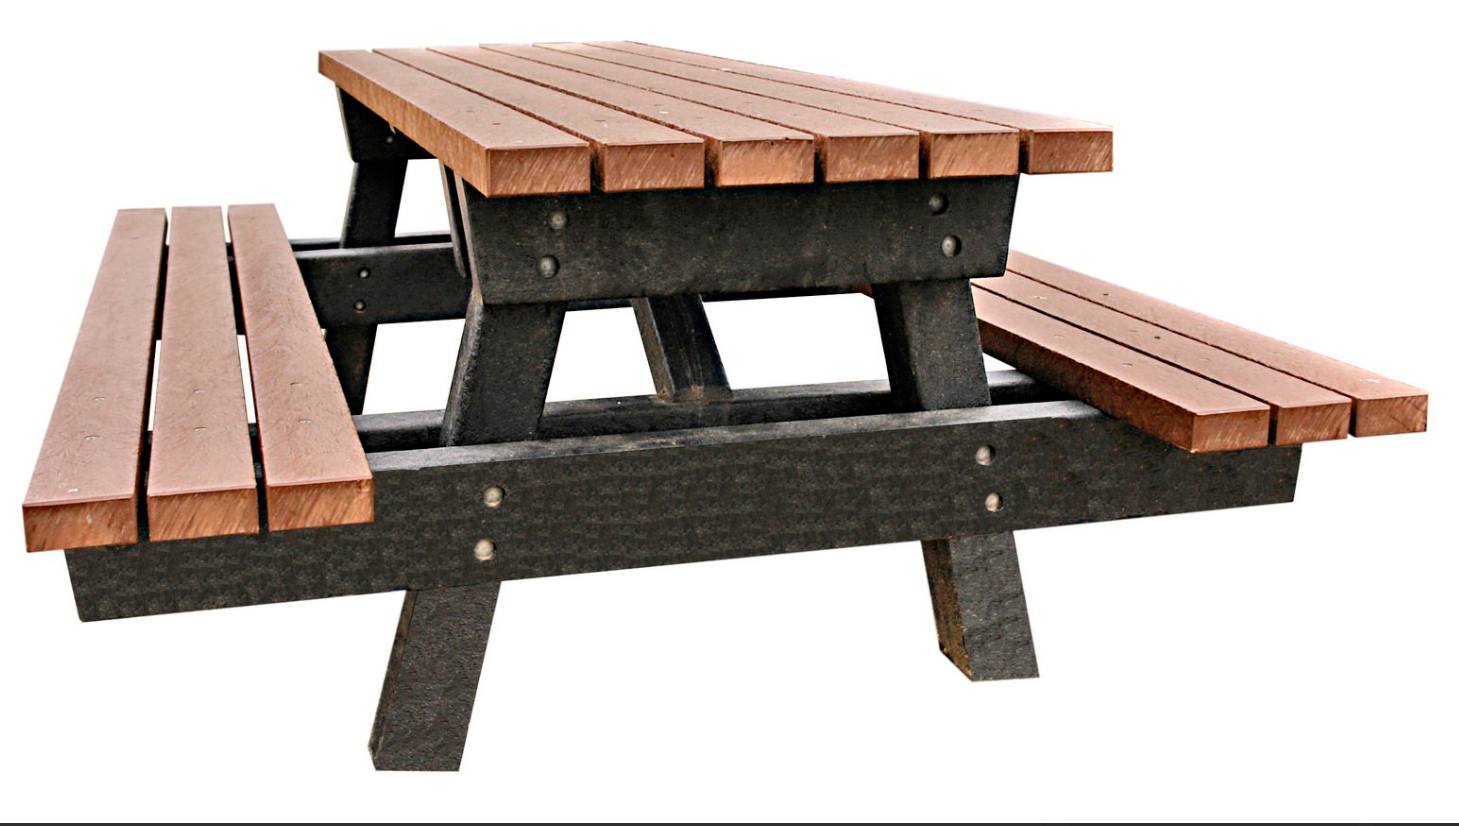obstacle: (27, 42, 1431, 774)
